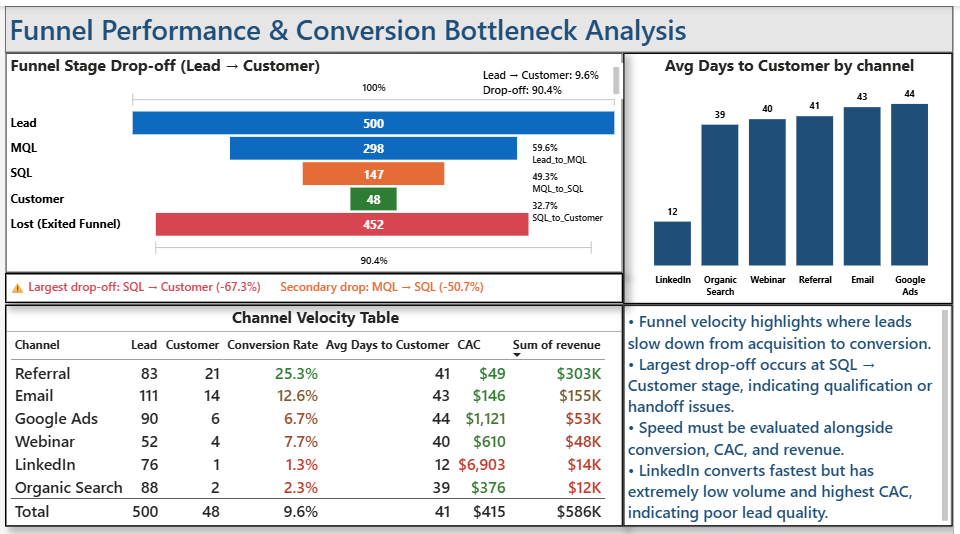

This screenshot's page, from the dashboard's own definition file:
{"tool":"powerbi","page":{"name":"Page 2","canvas":[1280,720],"ordinal":1},"visuals":[{"type":"clusteredColumnChart","title":"Avg Time to Customer by channel","fields":{"Category":["leads.channel"],"Y":["lead_stage_events.Avg Days to Customer"]},"box":[0,62.8,640,340.3],"z":0},{"type":"funnel","title":"Funnel Stage Drop-off (Lead → Customer)","fields":{"Y":["lead_stage_events.Stage Lead Count"],"Category":["StageDim.Stage Label"]},"box":[640,62.8,640,283.5],"z":1000},{"type":"tableEx","title":"Channel Velocity Table","fields":{"Values":["leads.channel","lead_stage_events.Lead","lead_stage_events.Customer","lead_stage_events.Conversion Rate","lead_stage_events.Avg Days to Customer","lead_stage_events.CAC","Sum(lead_stage_events.revenue)"]},"box":[0,403,846.6,299.7],"z":2000},{"type":"textbox","box":[846.6,403,433.4,299.7],"z":3000},{"type":"textbox","box":[0,0,1280,62.8],"z":4000},{"type":"textbox","box":[1099.7,62.8,180.3,56.7],"z":5000},{"type":"textbox","box":[640,346.3,640,54.7],"z":6000}]}

Visuals, with their boxes in screenshot pixels (x1, y1, x2, y2), scaled from the page's 1280x720 canvas onto the 960x534 screenshot:
"Avg Time to Customer by channel" clusteredColumnChart: left=0, top=47, right=480, bottom=299
"Funnel Stage Drop-off (Lead → Customer)" funnel: left=480, top=47, right=959, bottom=257
"Channel Velocity Table" tableEx: left=0, top=299, right=635, bottom=521
textbox: left=635, top=299, right=959, bottom=521
textbox: left=0, top=0, right=959, bottom=47
textbox: left=825, top=47, right=959, bottom=89
textbox: left=480, top=257, right=959, bottom=297
